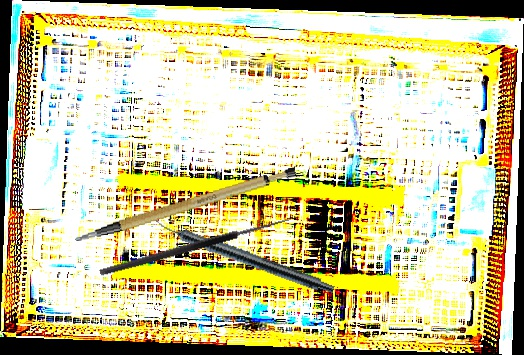Handpiece: (147, 213, 338, 297)
Hook Surgical: (96, 204, 295, 278)
Scalpel Handle: (68, 163, 302, 243)
